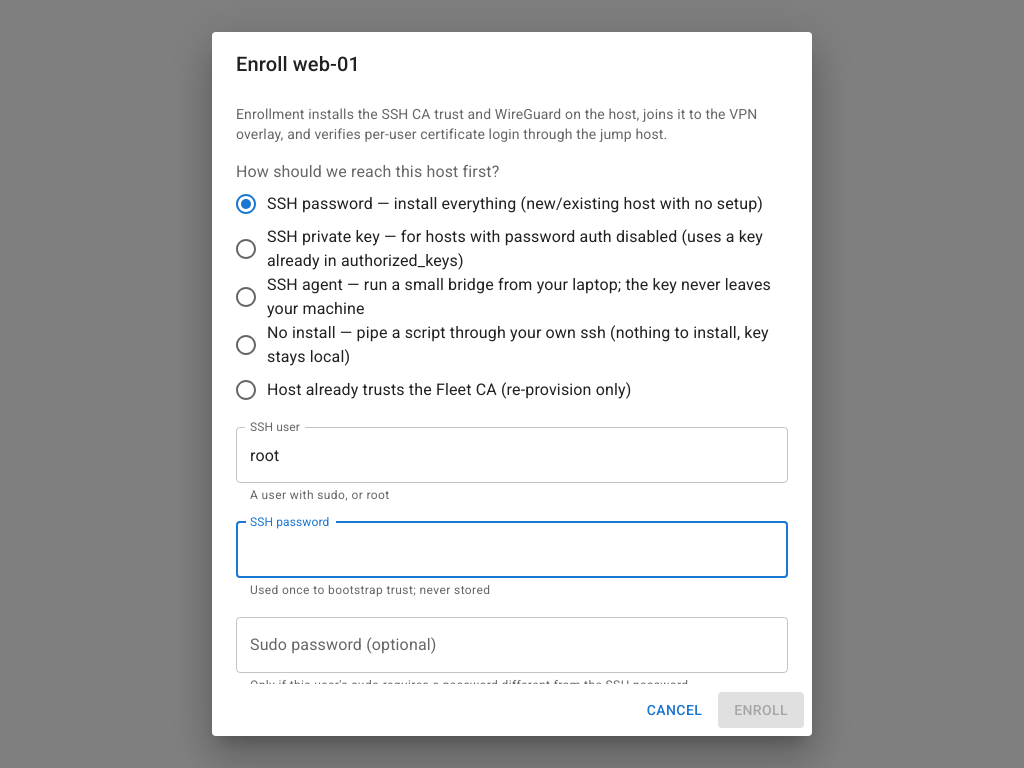
it: EnrollCredsDialog bootstrap commands › fills the live session token into the SSH-agent command
Click the radio button labelled "SSH agent" at (498, 297), box [225,273,772,321]
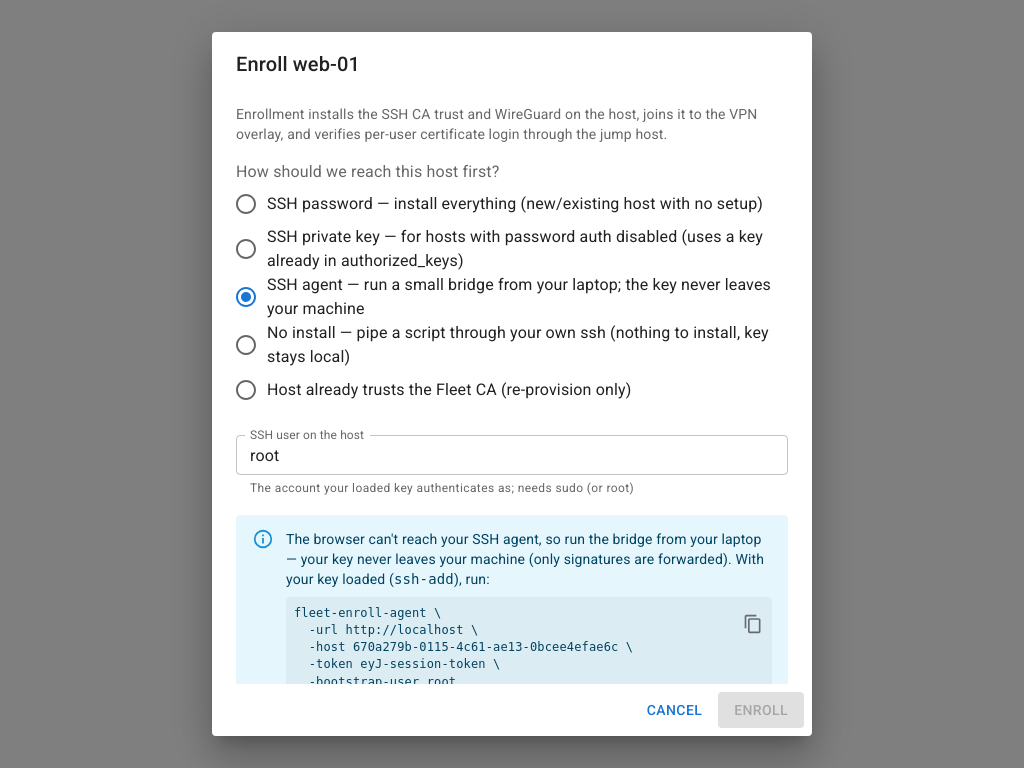
Result: the text "fleet-enroll-agent" shows "-token eyJ-session-token" at [294,606,633,684]
Result: the text "fleet-enroll-agent" shows "-bootstrap-user root" at [294,606,633,684]
